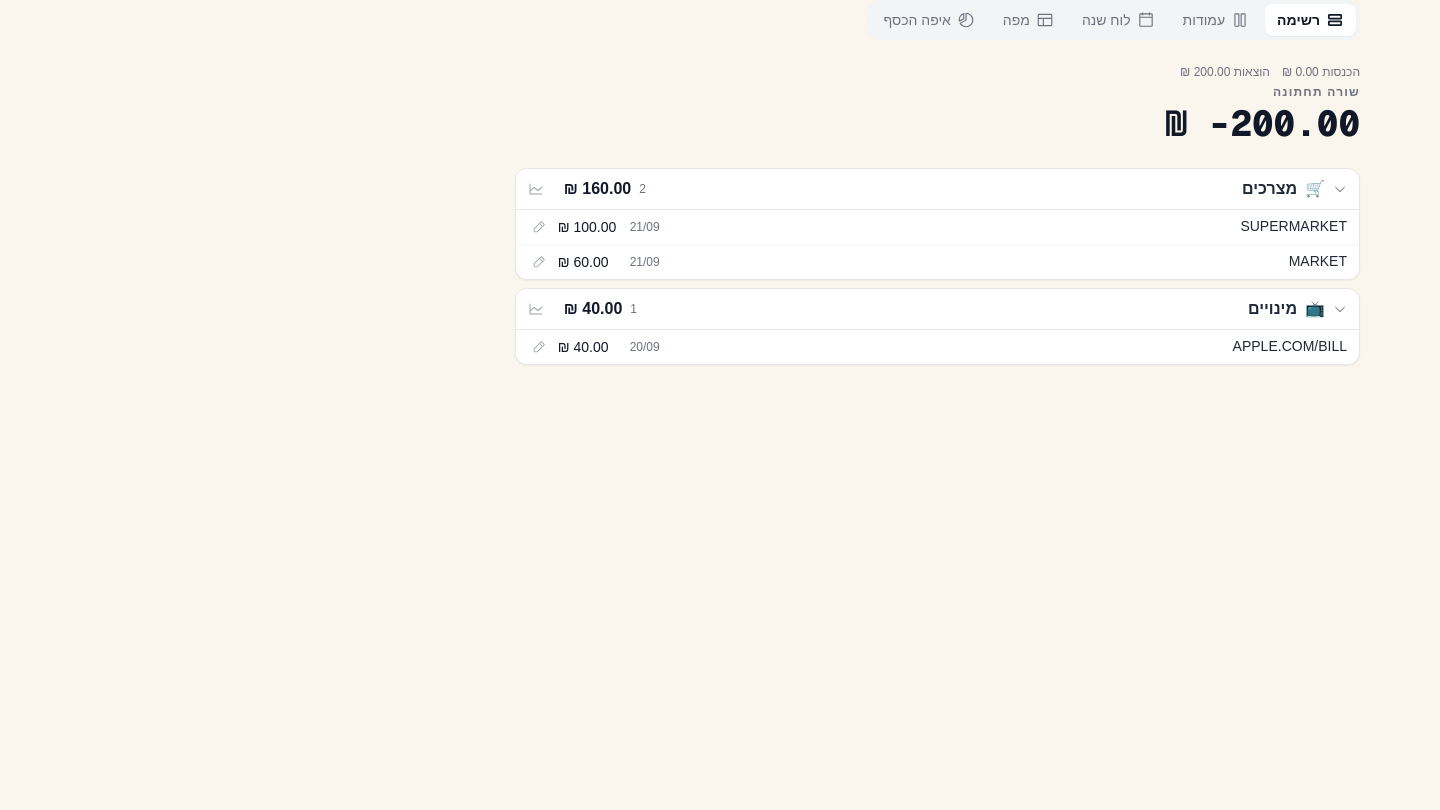
ExpensesExplorer hidden expenses › restores everything at once
This screenshot has width=1440, height=810.
What coordinates should you click on to do the following:
click the text "SUPERMARKET"
I would click on:
 (1294, 226)
Its box is [1240,218,1347,234].
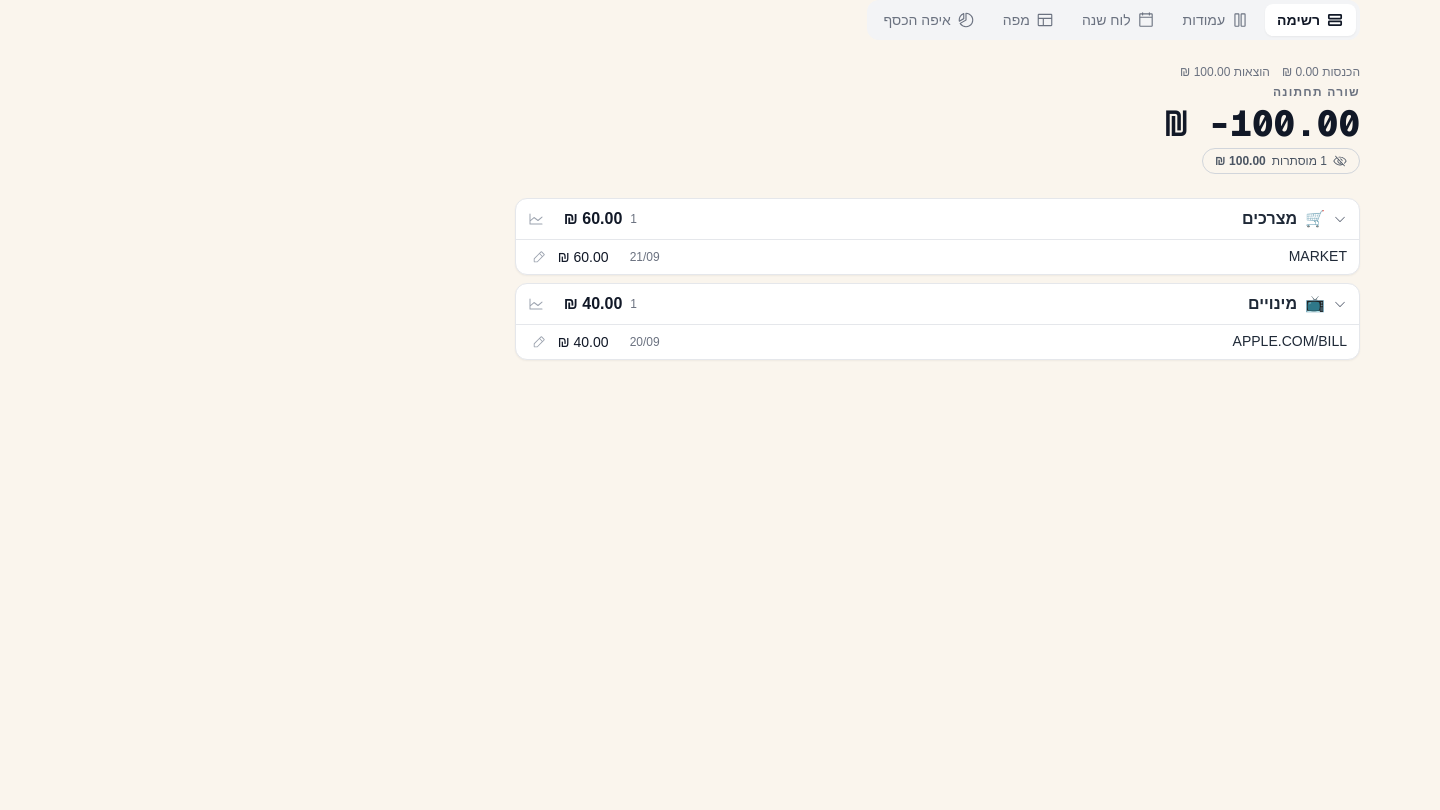
What coordinates should you click on to do the following:
click the text "APPLE.COM/BILL"
I would click on:
 (1290, 341)
Its box is [1233,333,1347,349].
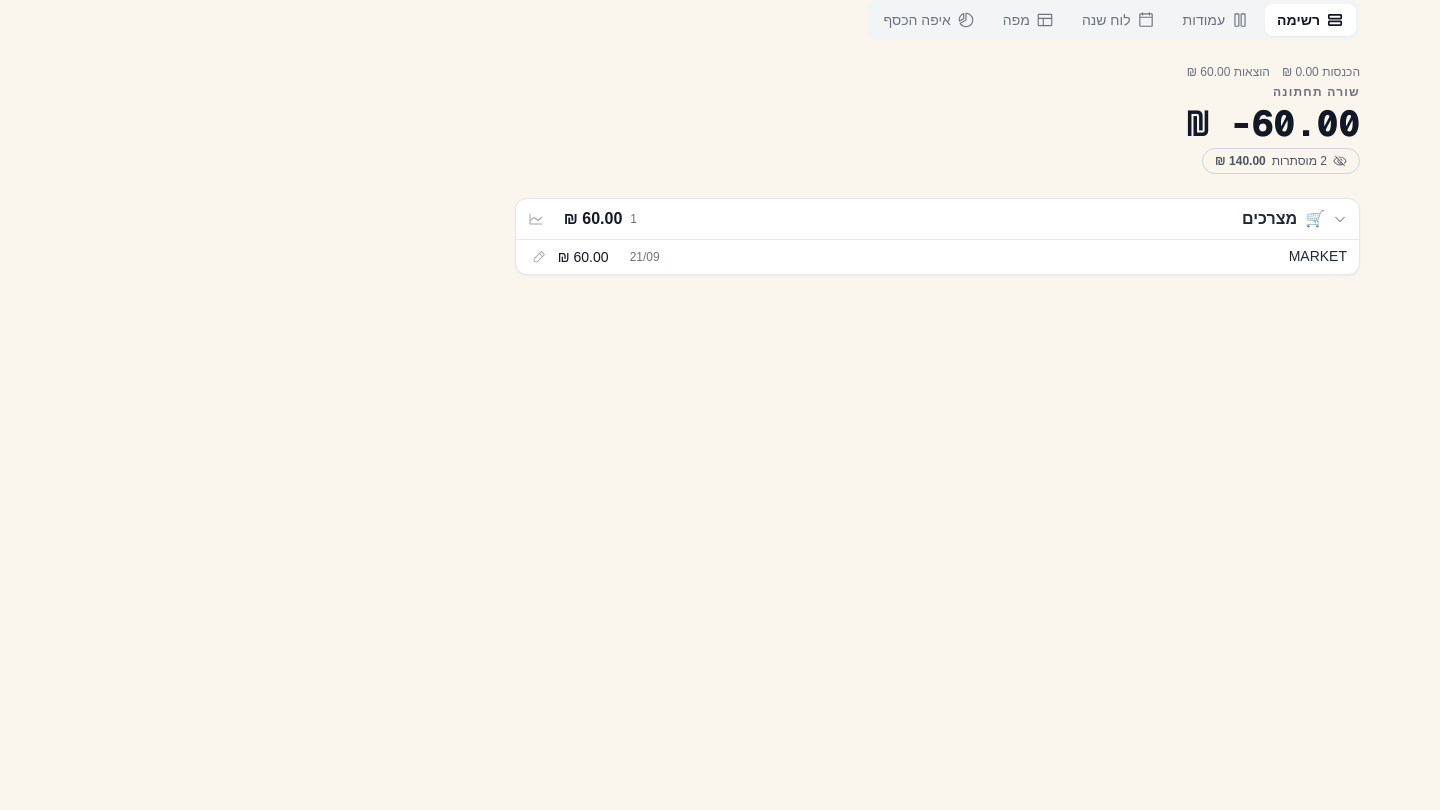
What coordinates should you click on to do the following:
click the button "2 מוסתרות 140.00 ₪"
I would click on:
 (1281, 161)
Its box is [1202,148,1360,174].
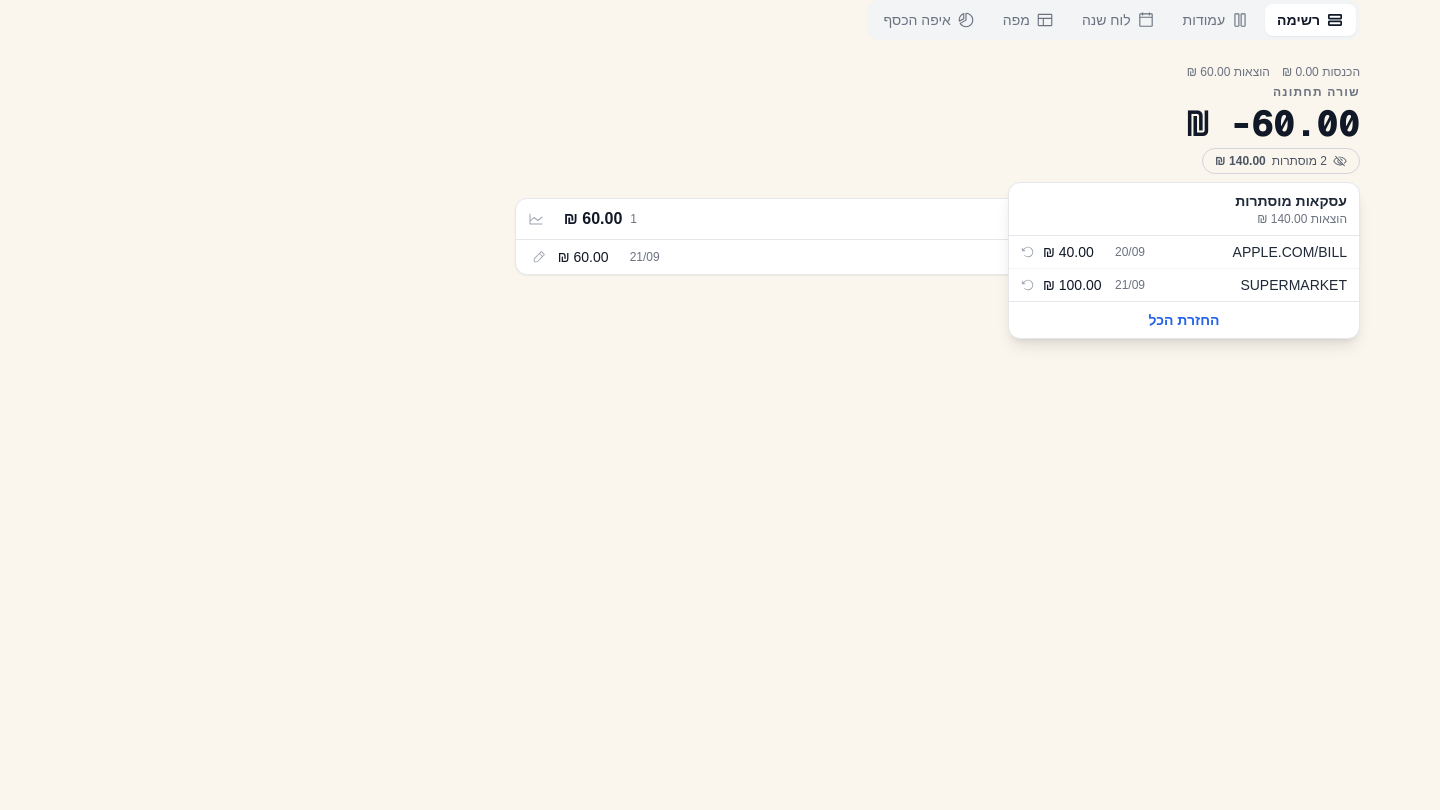
What coordinates should you click on to do the following:
click the button "החזרת הכל"
I would click on:
 (1184, 320)
Its box is [1009,301,1359,338].
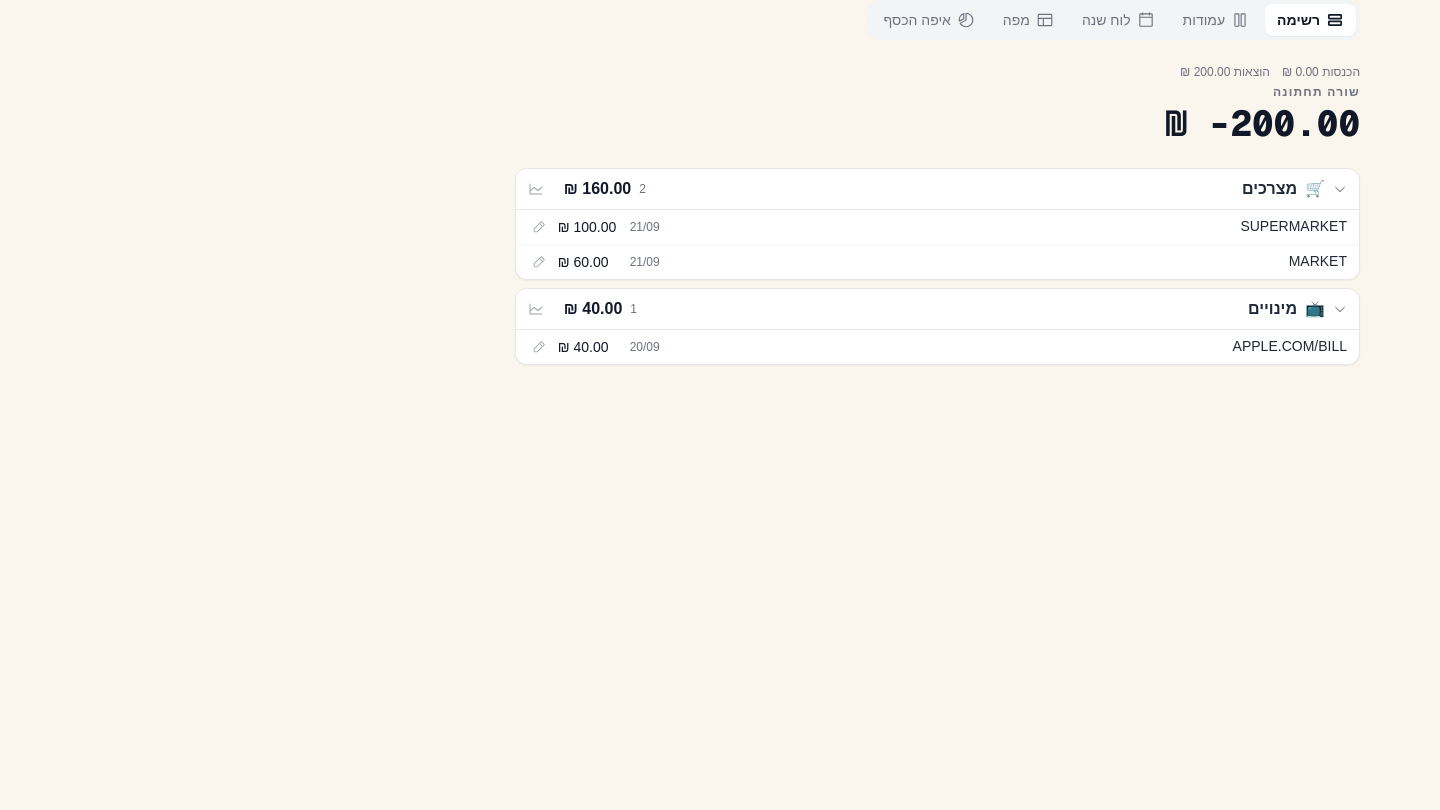
Expected: the text "SUPERMARKET" is shown, [1240,218,1347,234]
Expected: the text "APPLE.COM/BILL" is shown, [1233,338,1347,354]
Expected: the button "מוסתרות" is gone
